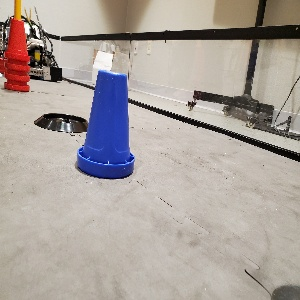Blue_1: (77, 68, 134, 178)
Red_4: (2, 16, 30, 92)
